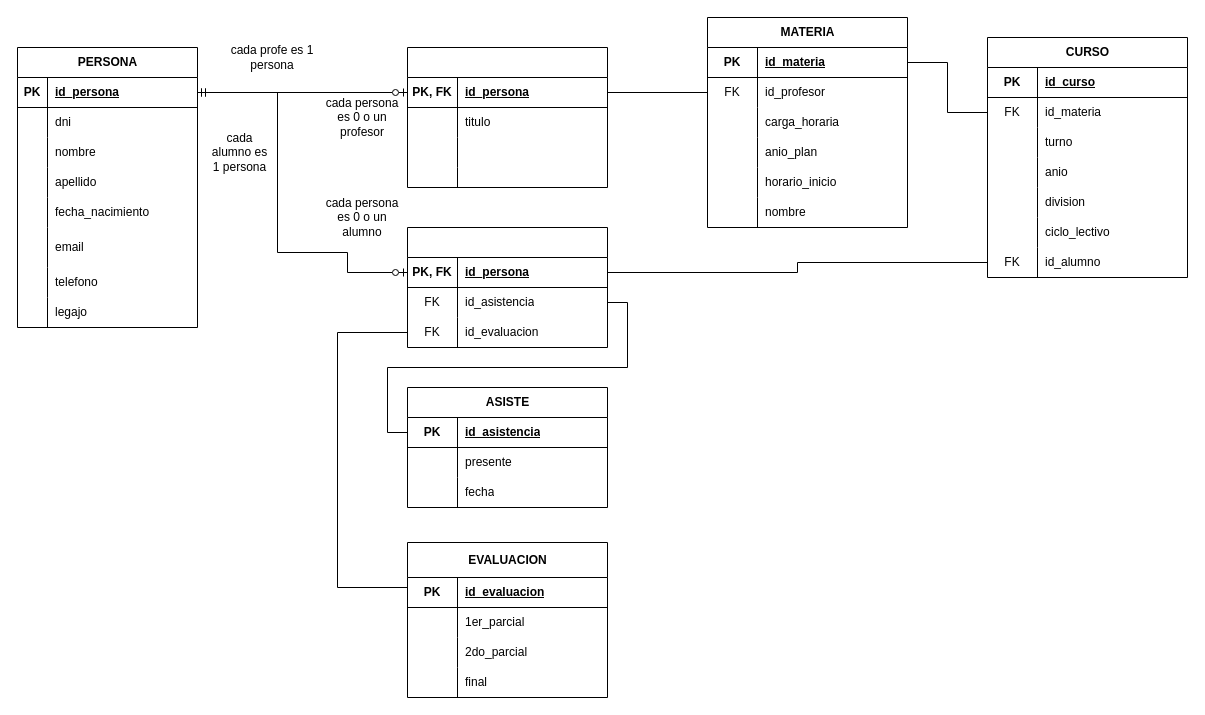
This 1205x715 diagram has some shape labels left out. The box of each missing label's shape, as (x1, y1, x2, y2) in pixels:
ALUMNO: (406, 226, 608, 348)
PROFESOR: (406, 46, 608, 188)
